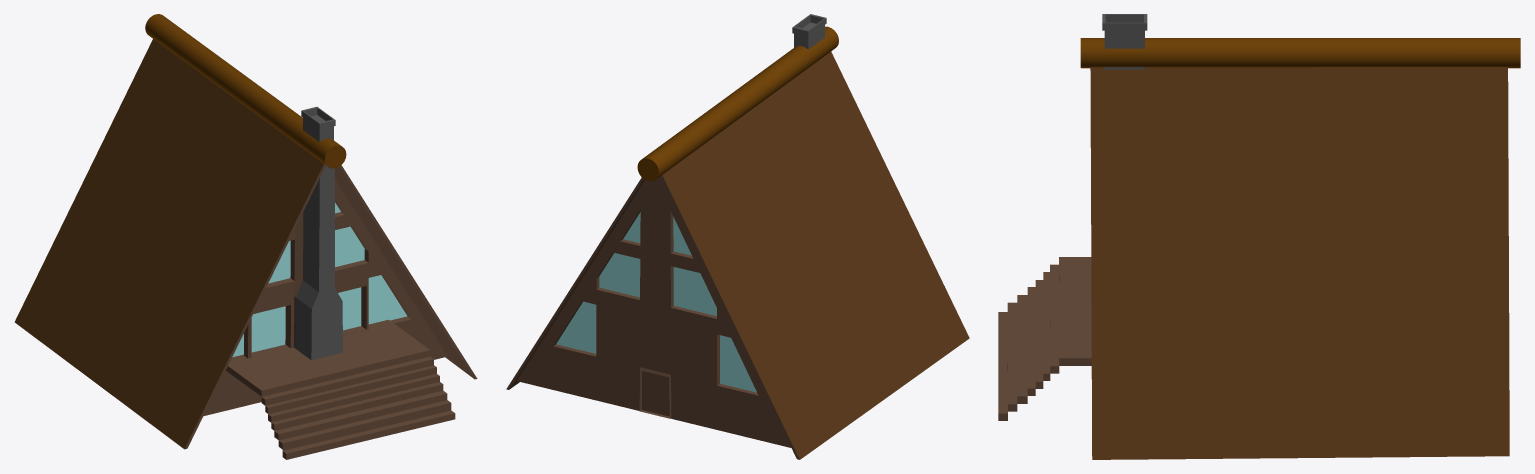
The model's file is Cabin.fbx.
The picture shows the model from 3 angles, left to right: view 1: azimuth 30°, elevation 25°; view 2: azimuth 150°, elevation 25°; view 3: azimuth 270°, elevation 25°; orthographic projection. The views are drawn at different scales.
Visible parts, largest first — view 1: pPrism1, pCylinder1, pPlane1, pCube1; view 2: pPrism1, pPlane2, pCylinder1, pCube1; view 3: pPrism1, pCylinder1, pCube1.
Boxes of the visible parts, x1,y1,x2,y2 form: pPrism1: [14, 39, 477, 459]; pCylinder1: [145, 14, 346, 168]; pPlane1: [232, 202, 406, 357]; pCube1: [301, 106, 335, 142]; pPrism1: [506, 51, 969, 459]; pPlane2: [556, 212, 756, 392]; pCylinder1: [637, 26, 838, 181]; pCube1: [792, 14, 826, 49]; pPrism1: [998, 67, 1509, 459]; pCylinder1: [1080, 38, 1520, 68]; pCube1: [1102, 14, 1147, 69].
Bounding box in the file's own units: 5.69 × 5.37 × 7.18.
